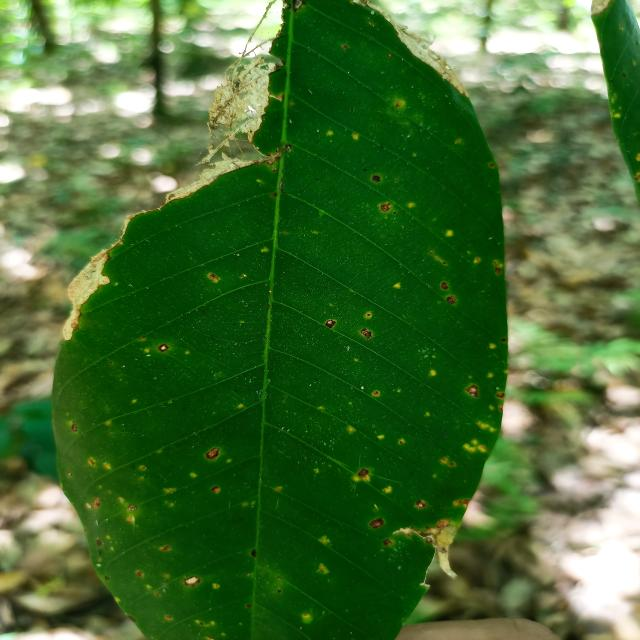Colletotrichum: (205, 448, 220, 459), (369, 518, 384, 528), (414, 498, 427, 508), (358, 468, 369, 478), (158, 343, 169, 352), (325, 320, 336, 328), (381, 538, 392, 546), (446, 295, 456, 303), (284, 144, 292, 152), (372, 174, 379, 182), (441, 282, 448, 290), (71, 424, 78, 432), (128, 504, 136, 511), (500, 337, 506, 342), (246, 603, 252, 608), (277, 588, 282, 594), (489, 163, 494, 168), (387, 53, 392, 57), (622, 73, 626, 78), (350, 109, 354, 113), (367, 313, 371, 317), (366, 60, 370, 63), (392, 212, 397, 214), (363, 169, 367, 171)
Leaf-Blight: (195, 56, 278, 164), (391, 22, 470, 98), (167, 152, 256, 204), (62, 249, 112, 341), (396, 520, 456, 577), (591, 0, 611, 16), (186, 578, 198, 584)
